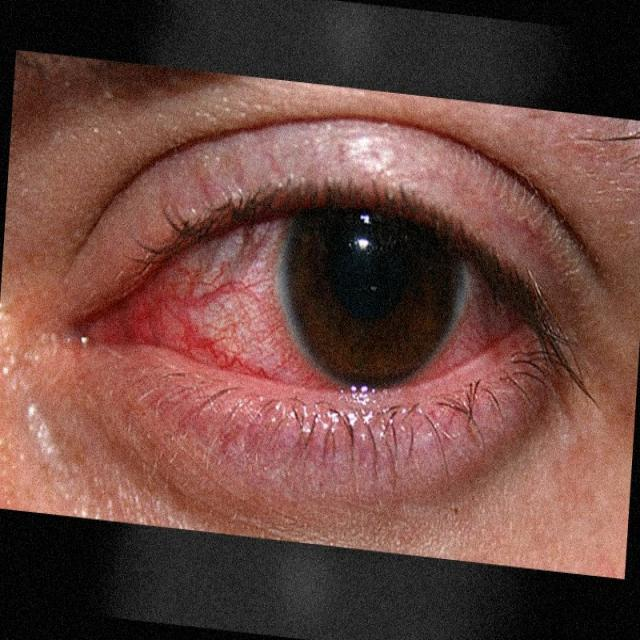Keratitis: (60, 117, 587, 473)
